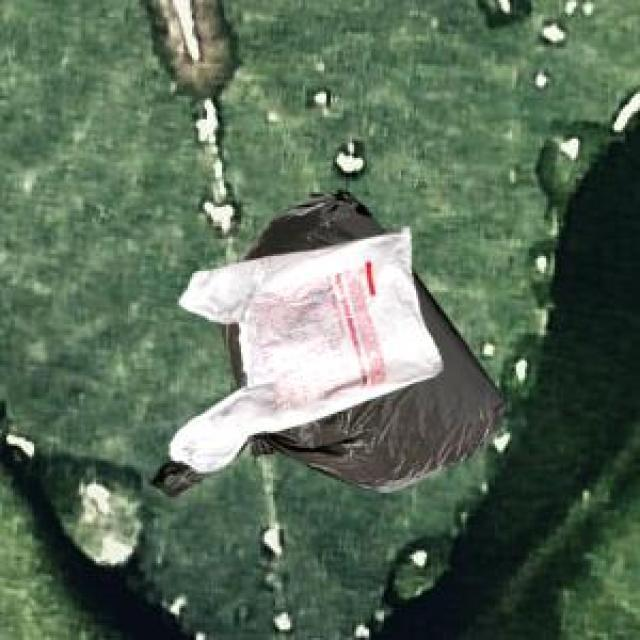miscellaneous trash: (145, 186, 501, 493)
